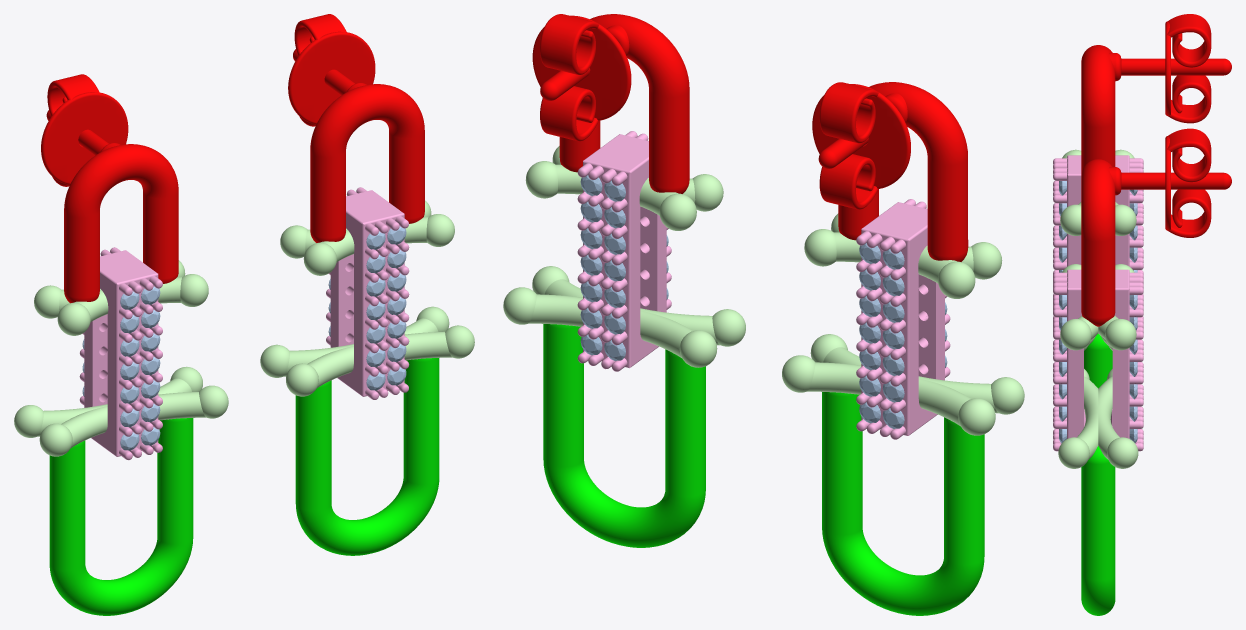
The picture shows the model from 3 angles, left to right: view 1: azimuth 30°, elevation 25°; view 2: azimuth 150°, elevation 25°; view 3: azimuth 270°, elevation 25°; orthographic projection. The views are drawn at different scales.
Visible parts, largest first — view 1: Brinco Val Cadeado.3dm; view 2: Brinco Val Cadeado.3dm; view 3: Brinco Val Cadeado.3dm.
Part boxes in pixels (x1=…): Brinco Val Cadeado.3dm: x1=14, y1=14, x2=474, y2=615; Brinco Val Cadeado.3dm: x1=503, y1=14, x2=1024, y2=615; Brinco Val Cadeado.3dm: x1=1053, y1=14, x2=1231, y2=615.
Bounding box in the file's own units: 2.6 × 2.87 × 0.9849.
